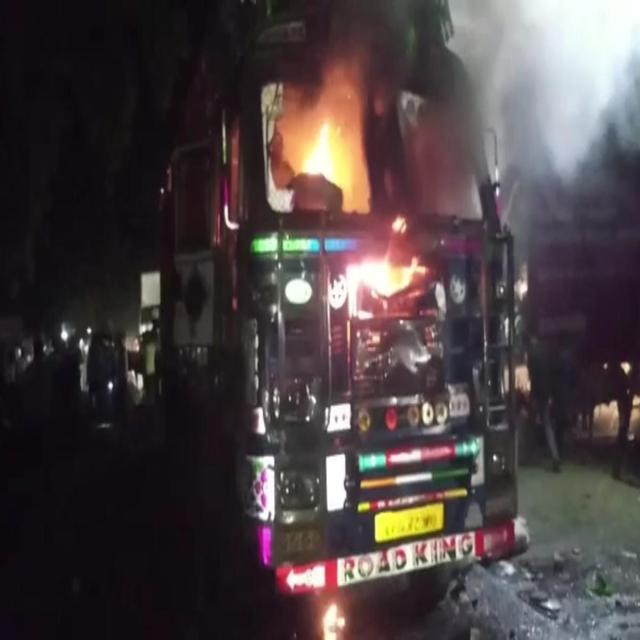accident: (162, 4, 524, 596)
